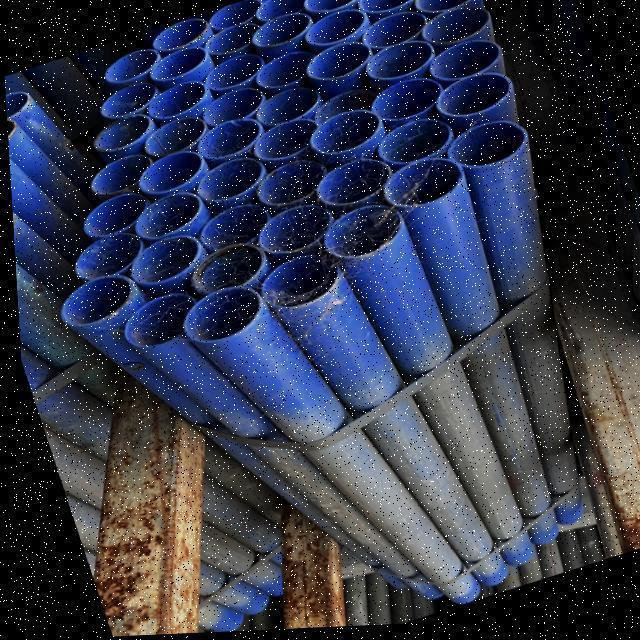pipe: (255, 255, 339, 316), (321, 203, 400, 261), (178, 286, 258, 343), (251, 157, 327, 215), (77, 190, 159, 243), (119, 296, 196, 352), (193, 151, 263, 212), (383, 160, 462, 214), (67, 228, 144, 282), (196, 207, 279, 257), (251, 210, 328, 263), (187, 243, 261, 297), (444, 125, 527, 173), (378, 118, 453, 171), (55, 275, 128, 329), (125, 237, 196, 292), (367, 83, 442, 135), (314, 158, 388, 210), (420, 43, 500, 91), (127, 193, 201, 244), (83, 151, 157, 202), (431, 77, 511, 124), (309, 110, 380, 160), (248, 121, 316, 173), (134, 154, 204, 204), (248, 53, 323, 98), (354, 11, 436, 51), (361, 42, 437, 85), (192, 120, 261, 167), (251, 86, 322, 131), (138, 117, 207, 163), (94, 75, 158, 123), (194, 87, 270, 127), (87, 110, 149, 156), (202, 53, 264, 98), (422, 2, 485, 46), (248, 13, 316, 53), (307, 46, 371, 88), (144, 84, 206, 127), (307, 91, 378, 125), (203, 19, 260, 61), (145, 49, 205, 88), (304, 9, 362, 49), (100, 48, 158, 87), (150, 14, 206, 54), (209, 0, 256, 29), (412, 0, 478, 19), (257, 0, 310, 23), (357, 0, 415, 19), (301, 0, 359, 18), (4, 91, 26, 117)
